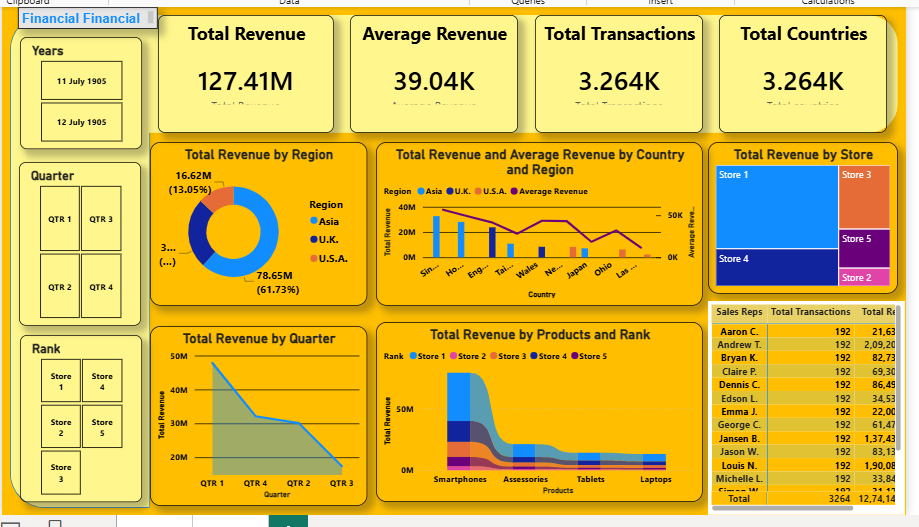

What the dashboard file says about the page in this screenshot:
{"tool":"powerbi","page":{"name":"Page 1","canvas":[1280,720],"ordinal":0},"visuals":[{"type":"shape","box":[11.3,11.3,198.4,698.7],"z":0},{"type":"shape","box":[198.4,11.3,1071.5,167.2],"z":1000},{"type":"cardVisual","fields":{"Data":["Measures (2).Total Revenue"]},"box":[232.4,11.3,249.4,167.2],"z":2000},{"type":"cardVisual","fields":{"Data":["Measures (2).Average Revenue"]},"box":[493.7,11.3,238.1,167.2],"z":3000},{"type":"cardVisual","fields":{"Data":["Measures (2).Total Transactions"]},"box":[755,11.3,238.1,167.2],"z":4000},{"type":"cardVisual","fields":{"Data":["Measures (2).Total countries"]},"box":[1016.2,11.3,238.1,167.2],"z":5000},{"type":"donutChart","fields":{"Y":["Measures (2).Total Revenue"],"Category":["Sheet1.Region"]},"box":[221.1,201.3,361.4,235.3],"z":6000},{"type":"lineClusteredColumnComboChart","fields":{"Category":["Sheet1.Country"],"Y":["Measures (2).Total Revenue"],"Y2":["Measures (2).Average Revenue"],"Series":["Sheet1.Region"]},"box":[598.1,201.3,418.1,235.3],"z":7000},{"type":"treemap","title":"Total Revenue by Store","fields":{"Values":["Measures (2).Total Revenue"],"Group":["Sheet1.Rank"]},"box":[1031.8,201.3,238.1,235.3],"z":8000},{"type":"areaChart","fields":{"Y":["Measures (2).Total Revenue"],"Category":["Sheet1.Quarter"]},"box":[221.1,452.1,361.4,249.4],"z":9000},{"type":"ribbonChart","fields":{"Category":["Sheet1.Products"],"Y":["Measures (2).Total Revenue"],"Series":["Sheet1.Rank"]},"box":[598.1,452.1,395.4,249.4],"z":10000},{"type":"pivotTable","fields":{"Rows":["Sheet1.Sales Reps"],"Values":["Measures (2).Average Revenue","Measures (2).Total Transactions","Measures (2).Total Revenue"]},"box":[1006.3,452.1,263.6,249.4],"z":11000},{"type":"slicer","fields":{"Values":["Sheet1.Years"]},"box":[25.5,42.5,172.9,158.7],"z":12000},{"type":"slicer","fields":{"Values":["Sheet1.Quarter"]},"box":[24.1,219.7,172.9,232.4],"z":13000},{"type":"slicer","fields":{"Values":["Sheet1.Rank"]},"box":[25.5,464.9,172.9,236.7],"z":14000},{"type":"textbox","box":[22.7,0,198.4,31.2],"z":15000}]}

Visuals, with their boxes in screenshot pixels (x1, y1, x2, y2):
shape: bbox=[6, 10, 146, 505]
shape: bbox=[138, 10, 897, 129]
cardVisual - Measures (2).Total Revenue: bbox=[162, 10, 339, 129]
cardVisual - Measures (2).Average Revenue: bbox=[347, 10, 516, 129]
cardVisual - Measures (2).Total Transactions: bbox=[532, 10, 701, 129]
cardVisual - Measures (2).Total countries: bbox=[717, 10, 886, 129]
donutChart - Measures (2).Total Revenue x Sheet1.Region: bbox=[154, 145, 410, 312]
lineClusteredColumnComboChart - Sheet1.Country x Measures (2).Total Revenue: bbox=[421, 145, 717, 312]
"Total Revenue by Store" treemap: bbox=[728, 145, 897, 312]
areaChart - Measures (2).Total Revenue x Sheet1.Quarter: bbox=[154, 322, 410, 499]
ribbonChart - Sheet1.Products x Measures (2).Total Revenue: bbox=[421, 322, 701, 499]
pivotTable - Sheet1.Sales Reps x Measures (2).Average Revenue: bbox=[710, 322, 897, 499]
slicer - Sheet1.Years: bbox=[16, 32, 138, 145]
slicer - Sheet1.Quarter: bbox=[15, 158, 137, 322]
slicer - Sheet1.Rank: bbox=[16, 332, 138, 499]
textbox: bbox=[14, 2, 154, 24]
